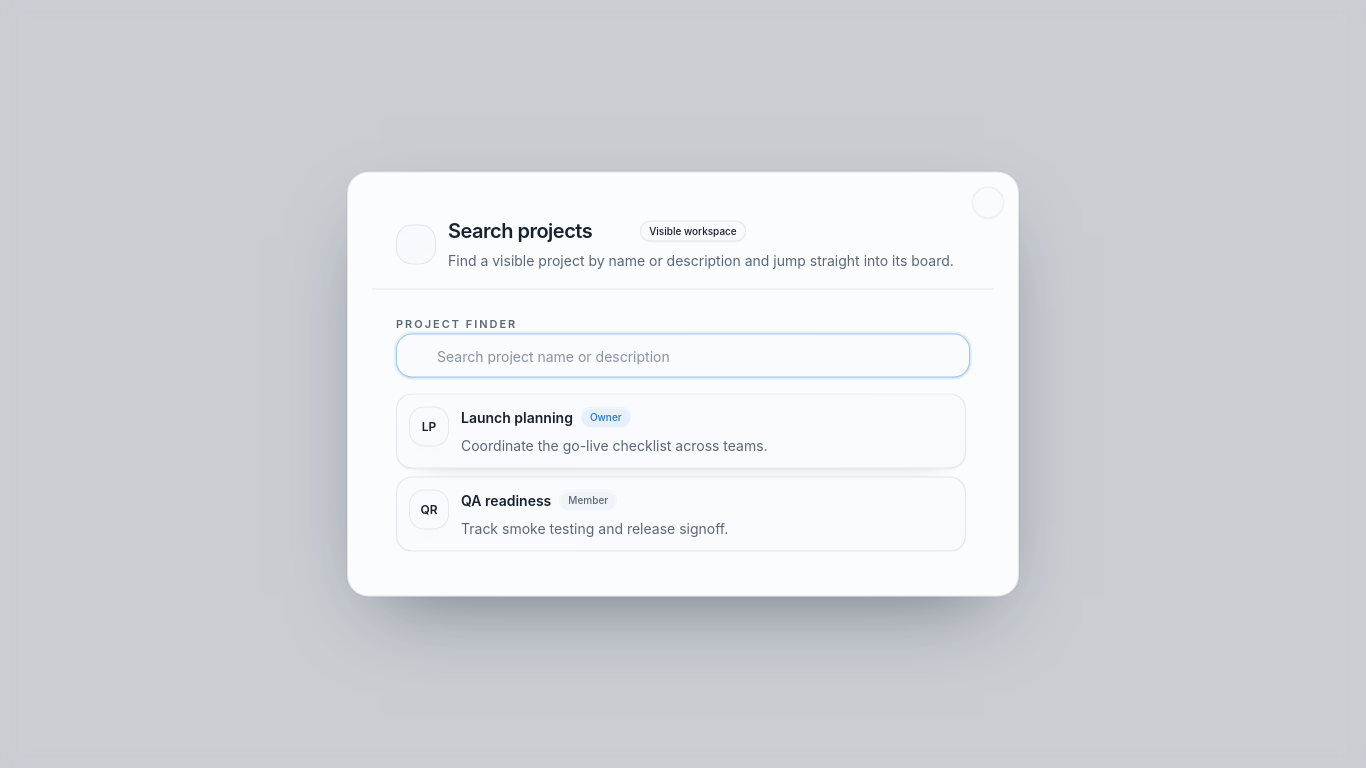
ProjectSearchDialog › shows a no-results state when the query does not match anything
Type "finance" into the field labelled "Project finder" at (683, 356), box left=396, top=334, right=970, bottom=378
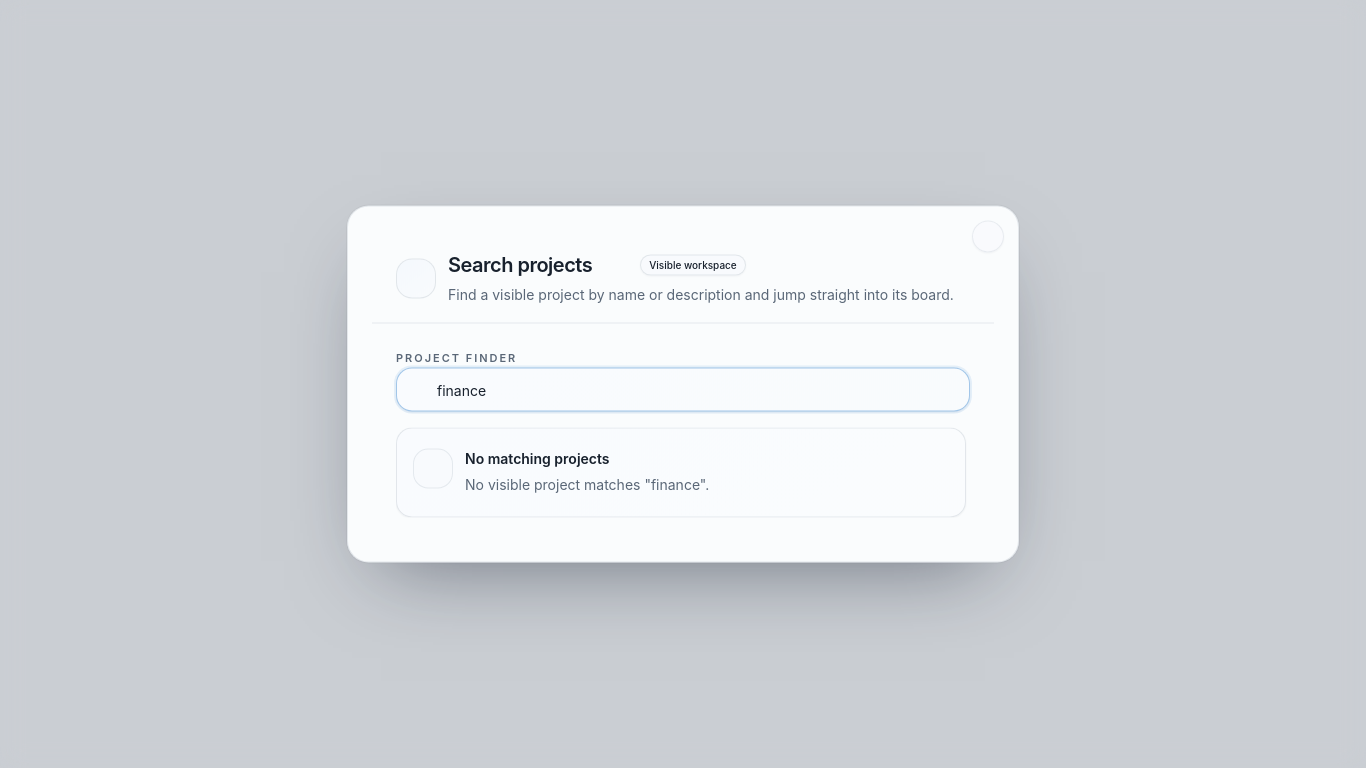
Expected: the text "No matching projects" is shown, left=465, top=450, right=610, bottom=466
